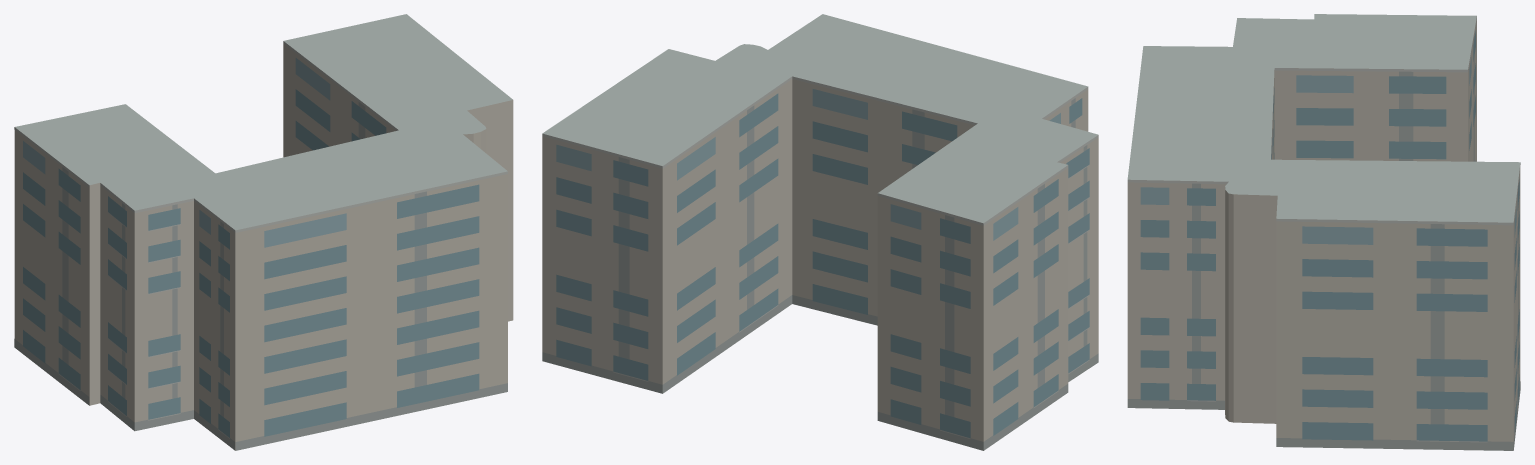
File: survey-upis-33005453.glb
3 renders of one model, left to right at view 1: azimuth 30°, elevation 25°; view 2: azimuth 150°, elevation 25°; view 3: azimuth 270°, elevation 25°, orthographic. The views are drawn at different scales.
Visible parts, largest first — view 1: survey-upis-33005453.tmp; view 2: survey-upis-33005453.tmp; view 3: survey-upis-33005453.tmp.
Boxes of the visible parts, left/top/right/bottom form: survey-upis-33005453.tmp: left=14, top=14, right=513, bottom=450; survey-upis-33005453.tmp: left=542, top=14, right=1098, bottom=450; survey-upis-33005453.tmp: left=1127, top=14, right=1520, bottom=450.
Bounding box in the file's own units: 41.89 × 21.35 × 33.33.
